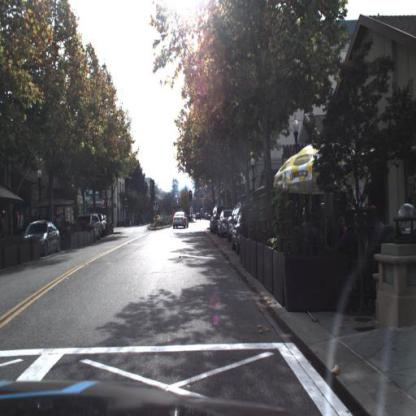car: (21, 217, 63, 256), (76, 210, 103, 241), (218, 210, 234, 238), (174, 210, 191, 231)
trafficLight-Red: (190, 190, 195, 204)
